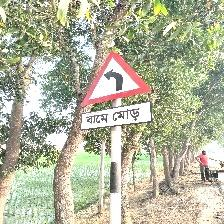Left-Turn: (79, 50, 153, 130)
